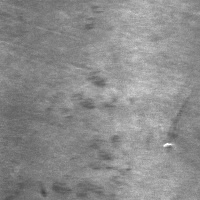rolled-in_scale: (41, 68, 130, 198), (85, 4, 106, 31)
